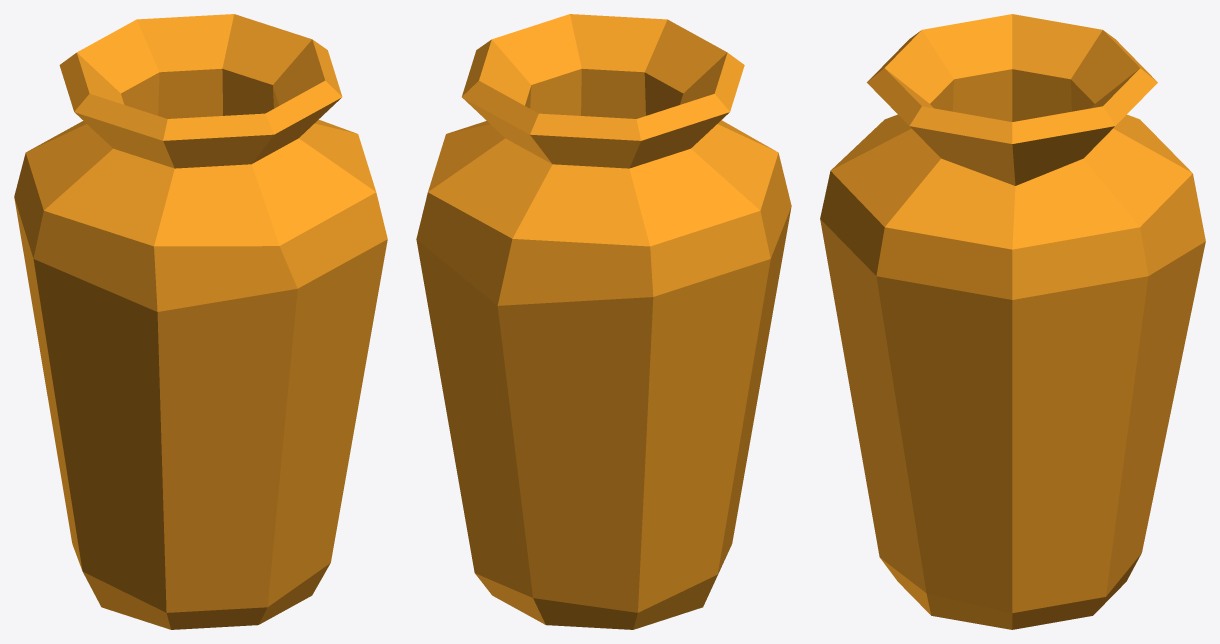
The model's file is SM_Prop_Vase_01.fbx.
3 renders of one model, left to right at view 1: azimuth 30°, elevation 25°; view 2: azimuth 150°, elevation 25°; view 3: azimuth 270°, elevation 25°, orthographic.
Visible parts, largest first — view 1: SM_Prop_Vase_01; view 2: SM_Prop_Vase_01; view 3: SM_Prop_Vase_01.
Part boxes in pixels (x1=…): SM_Prop_Vase_01: x1=14, y1=14, x2=387, y2=629; SM_Prop_Vase_01: x1=416, y1=14, x2=791, y2=629; SM_Prop_Vase_01: x1=820, y1=14, x2=1205, y2=629.
Bounding box in the file's own units: 24.55 × 36.16 × 24.62.
